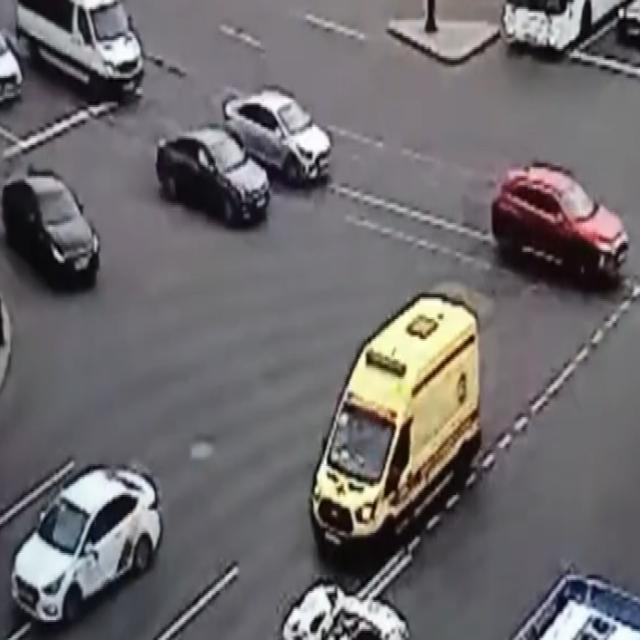intensive care unit: (309, 291, 480, 561)
non emergency car: (12, 453, 164, 627), (492, 165, 632, 285), (3, 164, 102, 291), (16, 1, 144, 97), (156, 128, 272, 228), (227, 85, 333, 187)
